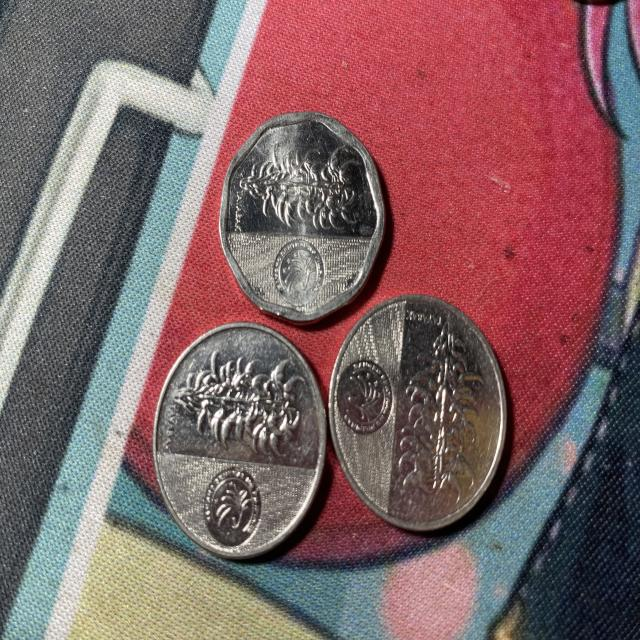5_New_Back: (395, 317, 484, 511), (175, 357, 315, 455), (234, 140, 364, 234)
